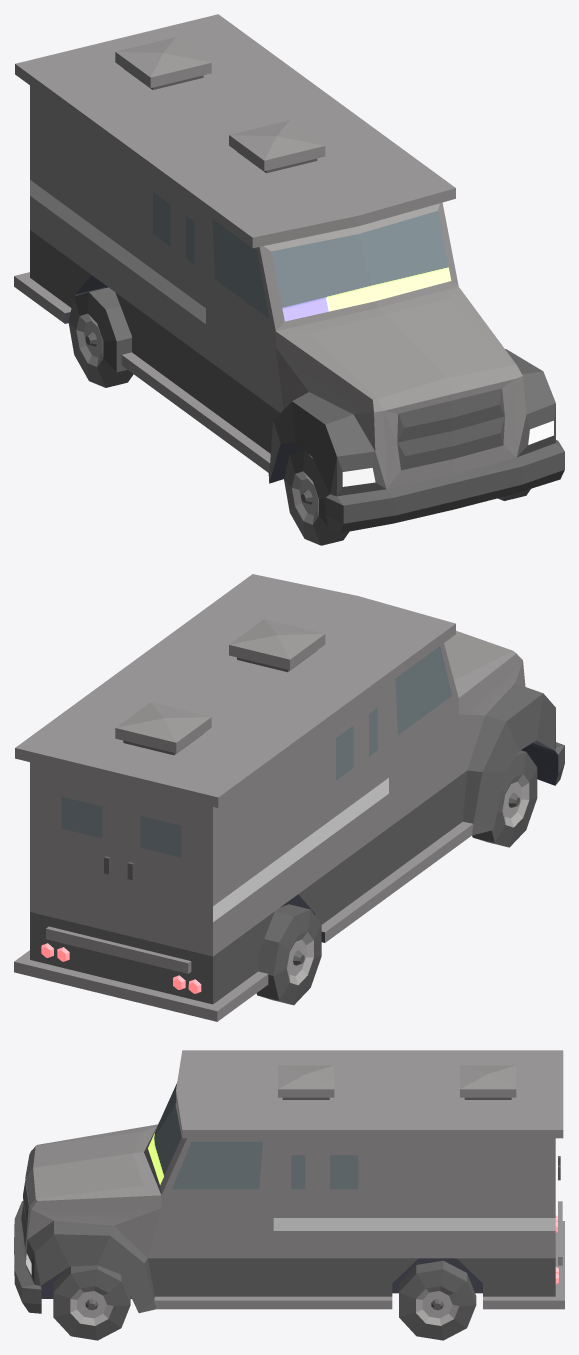
Rendered from armored.glb.
The picture shows the model from 3 angles, top to bottom: view 1: azimuth 30°, elevation 25°; view 2: azimuth 150°, elevation 25°; view 3: azimuth 270°, elevation 25°; orthographic projection. The views are drawn at different scales.
Visible parts, largest first — view 1: armored_truck_base, windows, armored_truck_wheel_BR, armored_truck_wheel_FR, sidelight; view 2: armored_truck_base, windows, armored_truck_wheel_BR, armored_truck_wheel_FR, sidelight; view 3: armored_truck_base, windows, armored_truck_wheel_BL, armored_truck_wheel_FL, sidelight.
Part boxes in pixels (x1,y1,x2,y2): armored_truck_base: (14,14,564,533); windows: (153,192,451,321); armored_truck_wheel_BR: (68,287,133,387); armored_truck_wheel_FR: (284,450,348,545); sidelight: (30,180,205,323); armored_truck_base: (14,574,564,1021); windows: (61,646,452,857); armored_truck_wheel_BR: (256,904,321,1005); armored_truck_wheel_FR: (472,750,537,847); sidelight: (213,778,388,921); armored_truck_base: (14,1050,564,1313); windows: (148,1082,358,1189); armored_truck_wheel_BL: (399,1260,476,1340); armored_truck_wheel_FL: (53,1265,130,1340); sidelight: (273,1218,555,1230).
Bounding box in the file's own units: 2.29 × 2.66 × 5.85.
